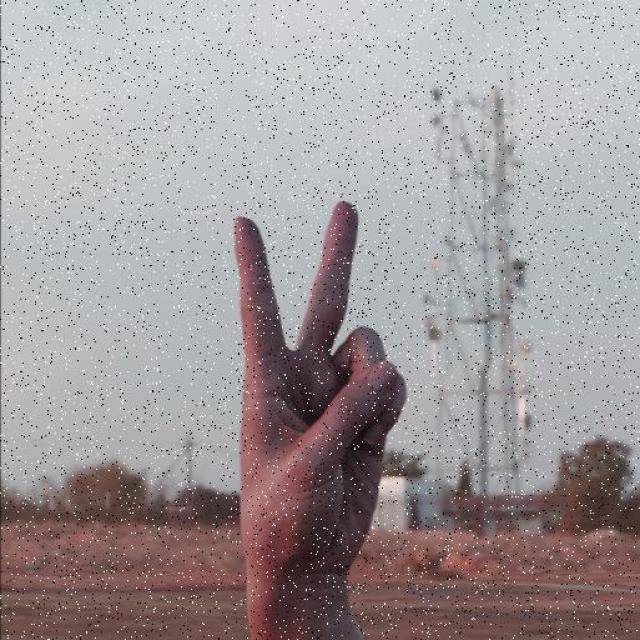V: (228, 199, 410, 581)
